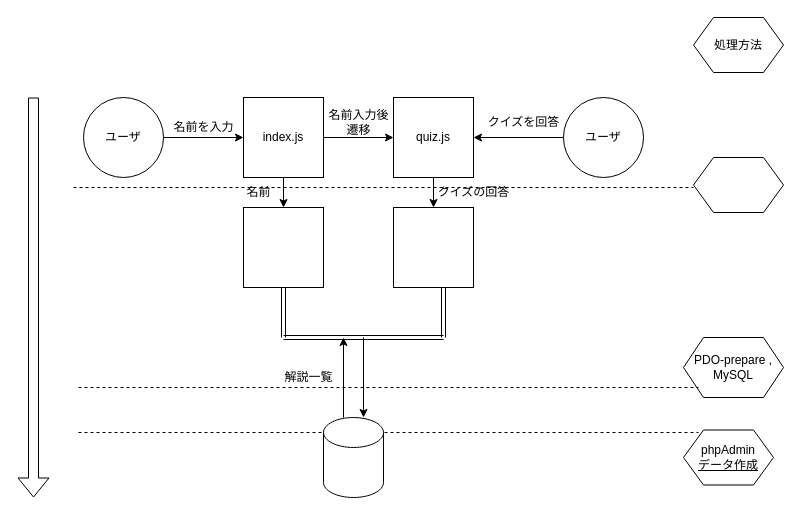
Image size: 801x515. Some labels were removed from this diagram. Each missing label, with the box of its shape:
DB: (322, 416, 384, 498)
fetch , json: (692, 156, 784, 212)
index.php: (242, 206, 324, 288)
quiz.php: (392, 206, 474, 288)
